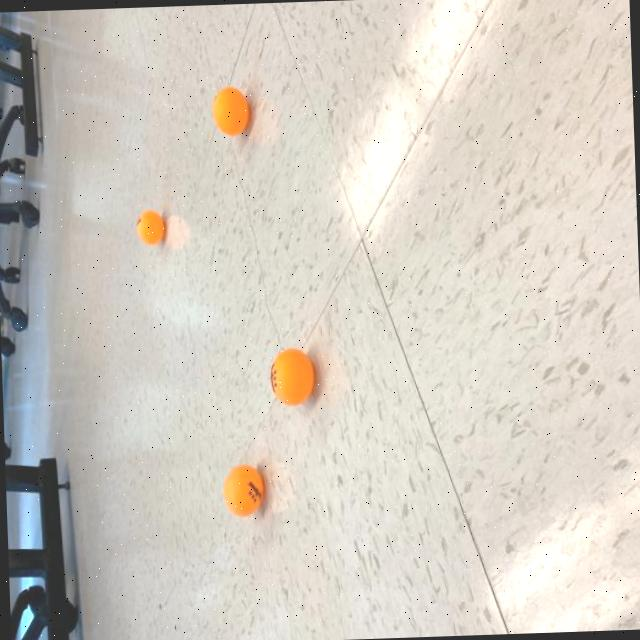ping-pong-ball: (267, 344, 317, 409), (221, 460, 266, 520), (208, 81, 252, 138), (132, 207, 166, 246)
